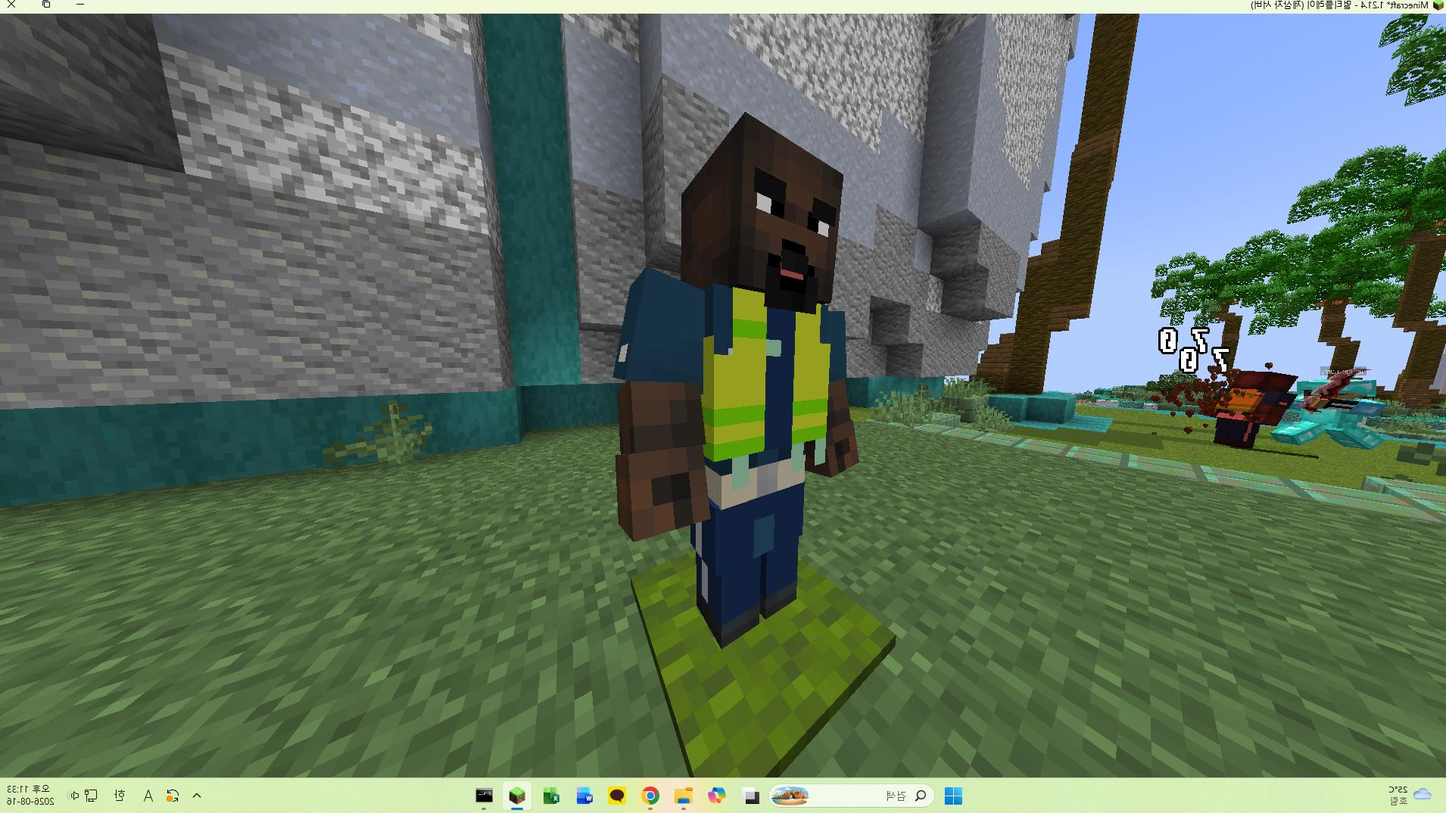Guardian: (618, 148, 859, 646)
